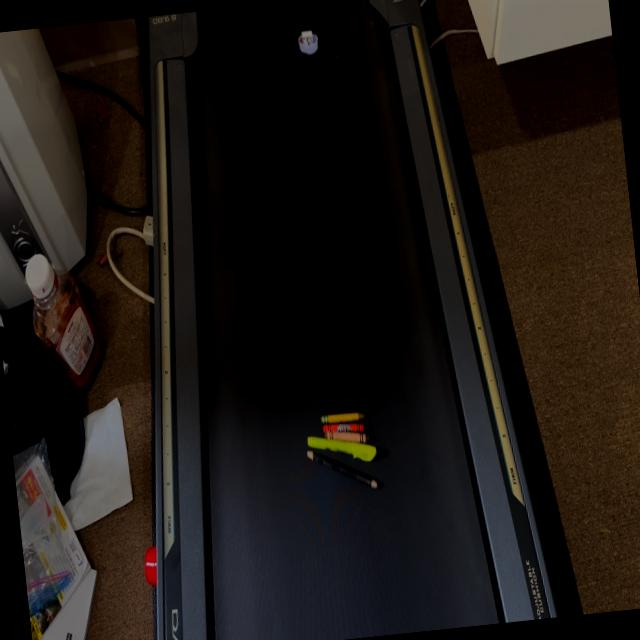Trash: (300, 405, 388, 502), (292, 22, 320, 54)
